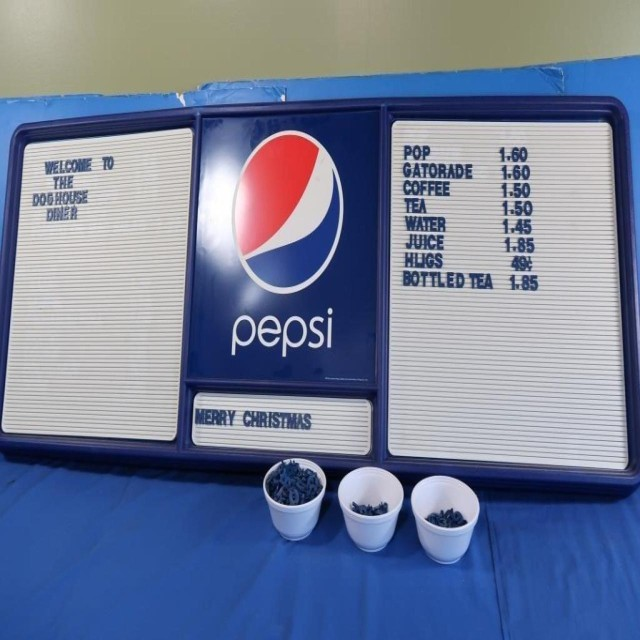pepsi: (228, 128, 346, 298), (228, 305, 341, 370)
